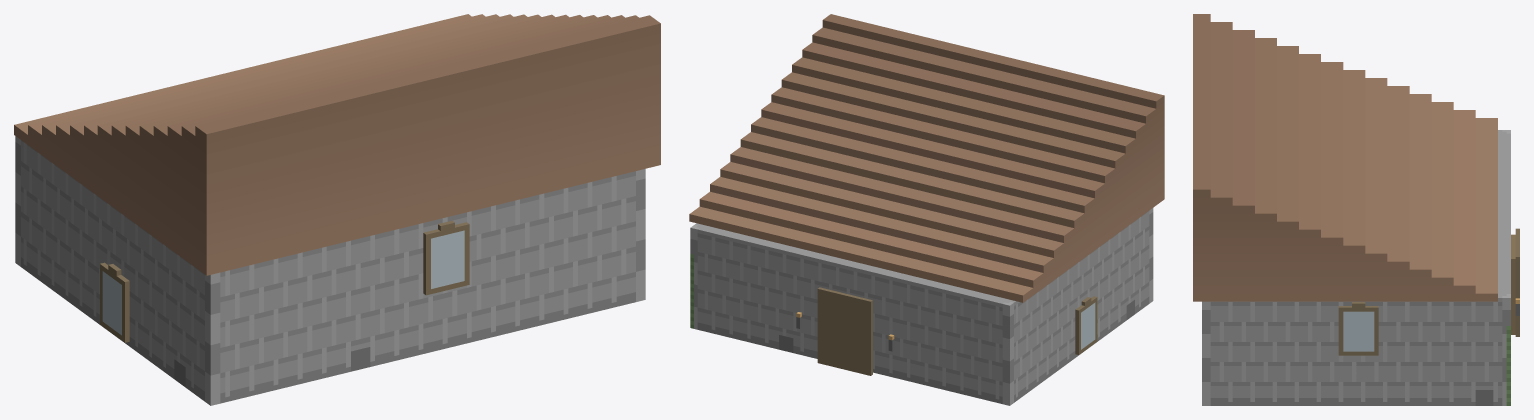
File: taller_asedio_02.glb
3 renders of one model, left to right at view 1: azimuth 30°, elevation 25°; view 2: azimuth 150°, elevation 25°; view 3: azimuth 270°, elevation 25°, orthographic. The views are drawn at different scales.
Visible parts, largest first — view 1: taller_asedio_02; view 2: taller_asedio_02; view 3: taller_asedio_02.
Boxes of the visible parts, bbox=[...] form: taller_asedio_02: bbox=[14, 14, 660, 405]; taller_asedio_02: bbox=[689, 14, 1164, 405]; taller_asedio_02: bbox=[1193, 14, 1519, 405].
Size of the model in its own units: 9.4 by 5.5 by 7.4.
